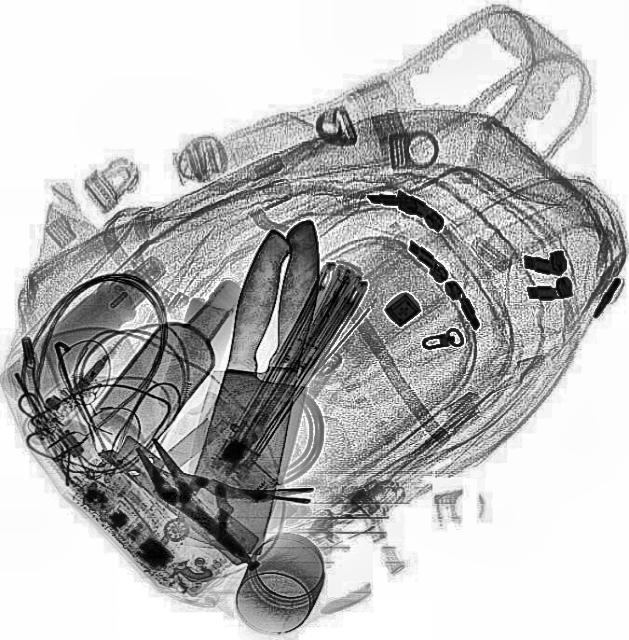Knife: (175, 226, 341, 558), (173, 208, 326, 562)
